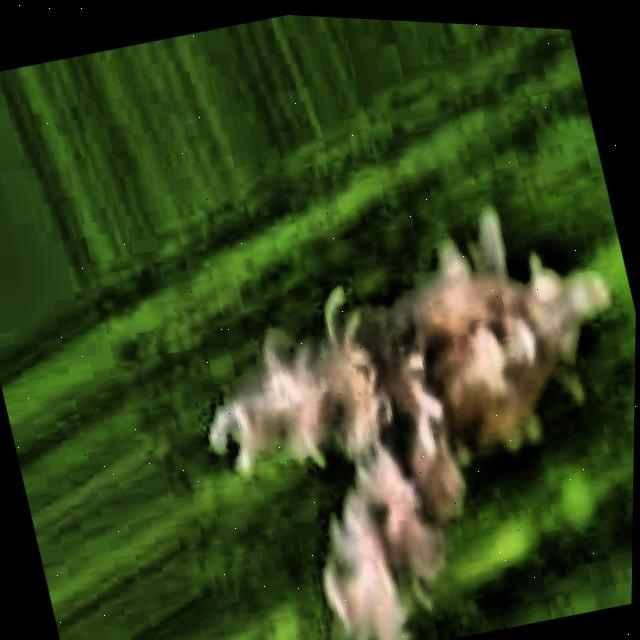Pyrilla-perpusilla: (147, 165, 638, 640)
